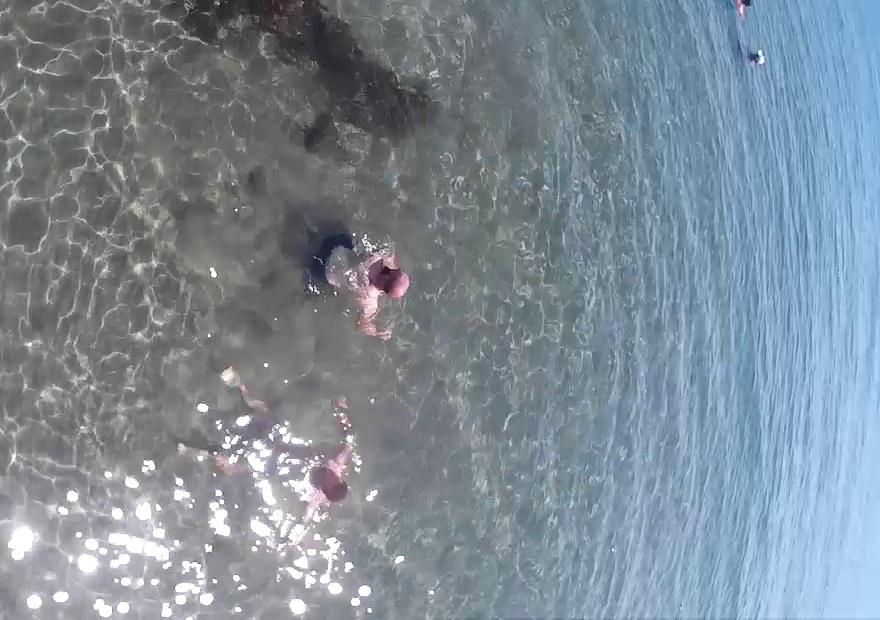human: (211, 370, 365, 560), (300, 216, 416, 371), (725, 0, 757, 28), (748, 50, 769, 72)
